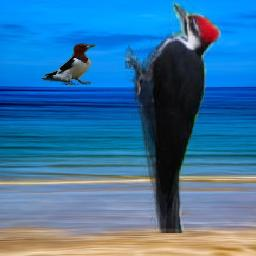Woodpecker: (125, 1, 223, 233), (42, 43, 97, 85)
